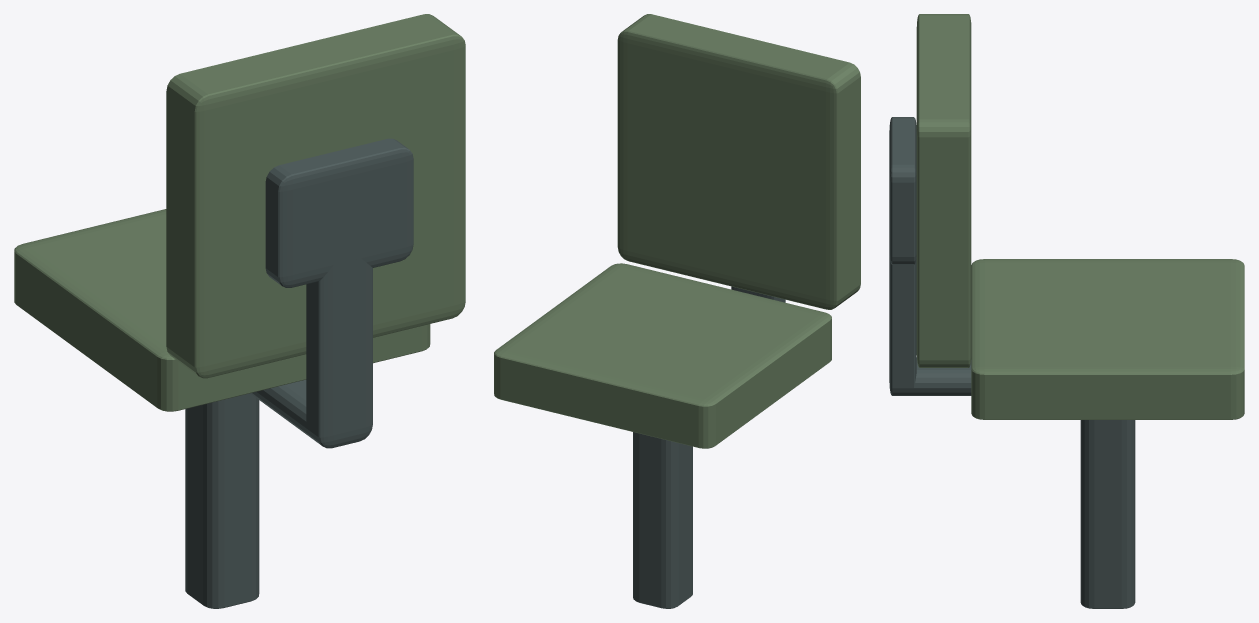
File: Security-chair2.glb
3 renders of one model, left to right at view 1: azimuth 30°, elevation 25°; view 2: azimuth 150°, elevation 25°; view 3: azimuth 270°, elevation 25°, orthographic. The views are drawn at different scales.
Parts seen in each view (by area): view 1: Cube.003, Cube; view 2: Cube.003, Cube; view 3: Cube, Cube.003.
Boxes of the visible parts, <box> form: Cube.003: <box>166,14,465,448</box>; Cube: <box>14,209,430,608</box>; Cube.003: <box>617,14,860,309</box>; Cube: <box>494,263,831,608</box>; Cube: <box>971,259,1244,608</box>; Cube.003: <box>889,14,971,395</box>.
Bounding box in the file's own units: 2 × 4.3 × 2.6.
